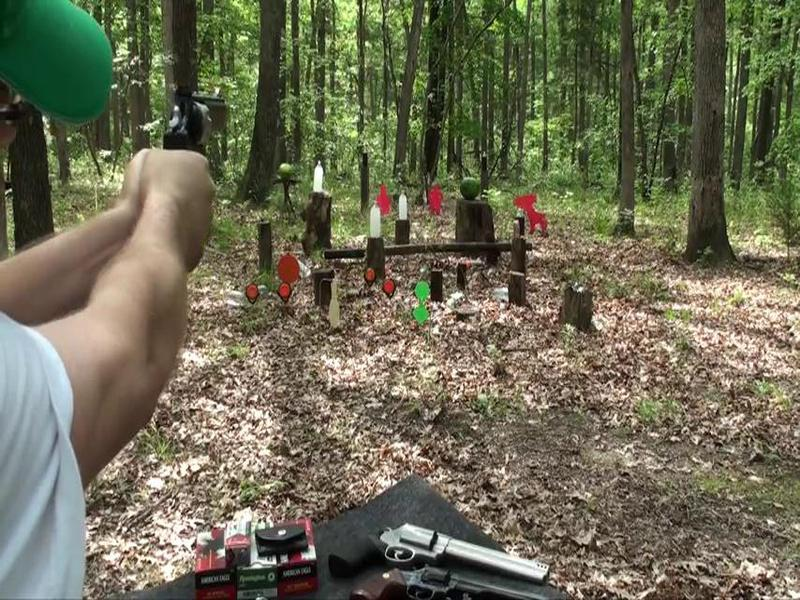Revolver: (152, 69, 238, 188)
